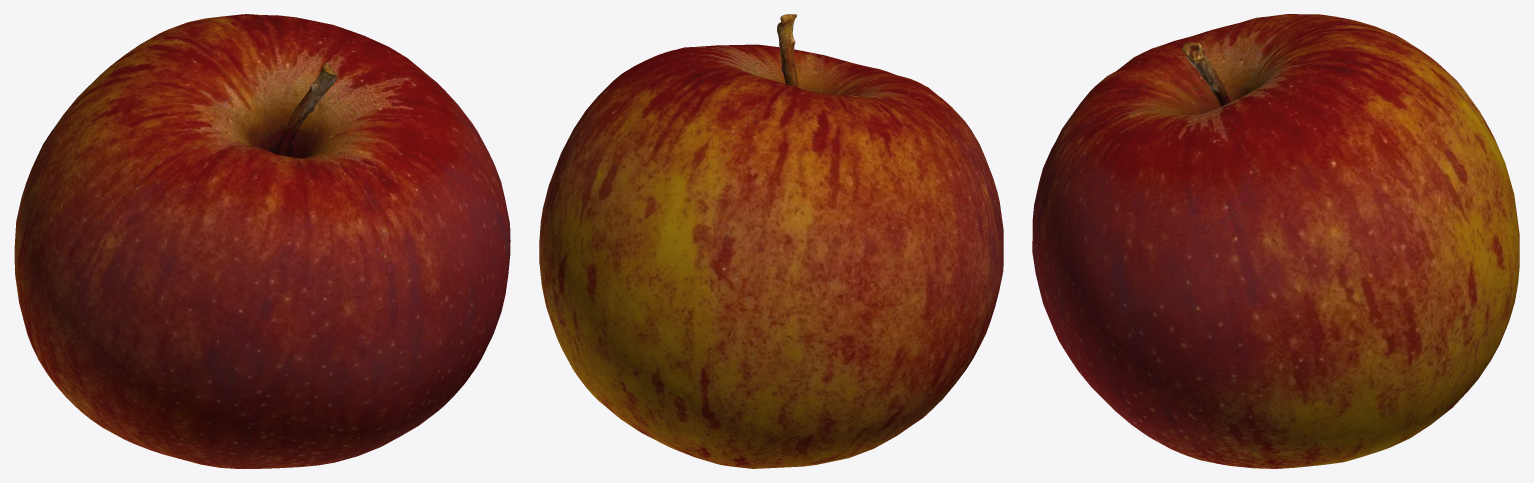
Rendered from food_apple_01.glb.
3 renders of one model, left to right at view 1: azimuth 30°, elevation 25°; view 2: azimuth 150°, elevation 25°; view 3: azimuth 270°, elevation 25°, orthographic. The views are drawn at different scales.
Visible parts, largest first — view 1: food_apple_01; view 2: food_apple_01; view 3: food_apple_01.
Part boxes in pixels (<box>): food_apple_01: <box>14,14,510,468</box>; food_apple_01: <box>539,14,1003,468</box>; food_apple_01: <box>1032,14,1519,468</box>.
Bounding box in the file's own units: 0.0976 × 0.0854 × 0.0958.
1 material, 1 textured.
